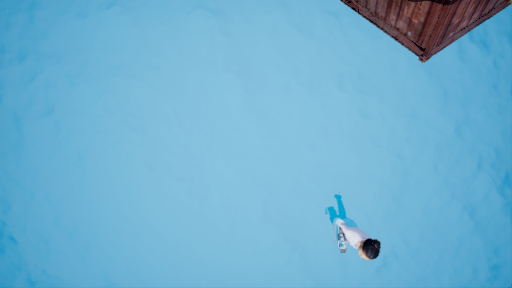person: (319, 195, 390, 270)
